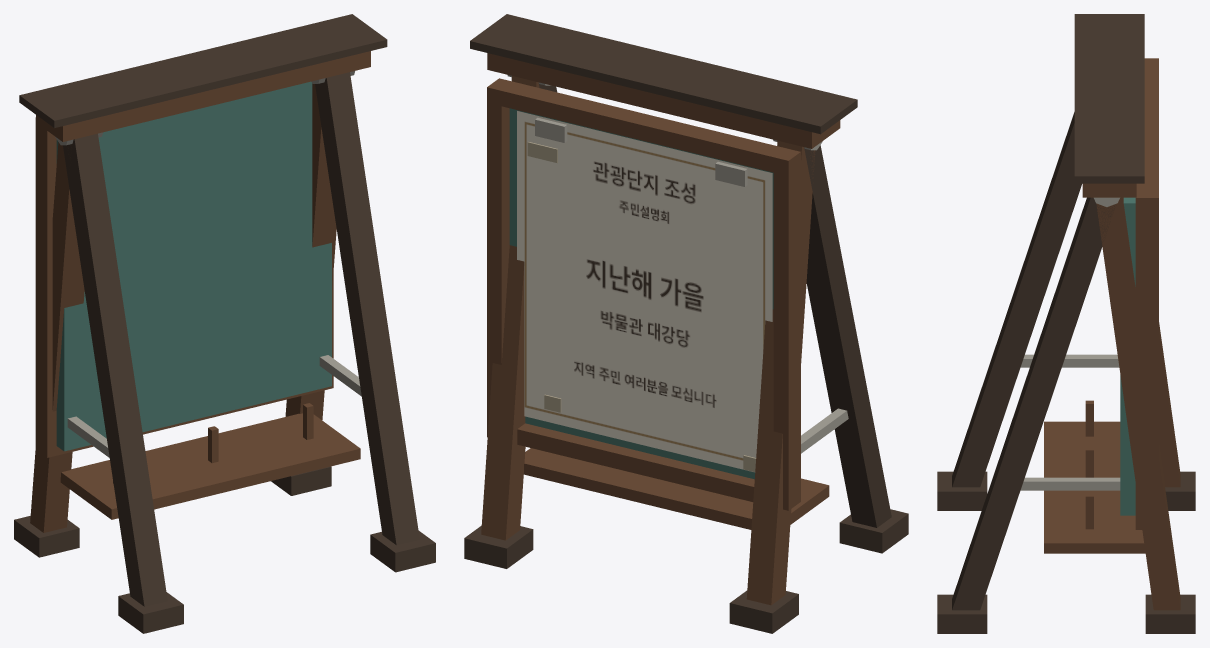
Rendered from N02_Past_Community_Meeting.fbx.
3 renders of one model, left to right at view 1: azimuth 30°, elevation 25°; view 2: azimuth 150°, elevation 25°; view 3: azimuth 270°, elevation 25°, orthographic. The views are drawn at different scales.
Visible parts, largest first — view 1: Structure; view 2: Structure, Panel; view 3: Structure.
Boxes of the visible parts, x1=… form: Structure: x1=14, y1=14, x2=435, y2=633; Structure: x1=464, y1=14, x2=908, y2=633; Panel: x1=517, y1=111, x2=772, y2=472; Structure: x1=937, y1=14, x2=1195, y2=633.
Size of the model in its own units: 2.14 by 2.87 by 1.44.
Materials: 6 (1 with a texture image).
